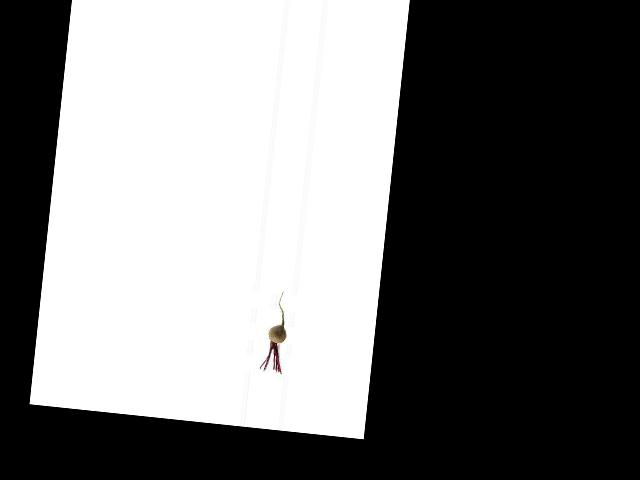beet: (260, 289, 291, 373)
